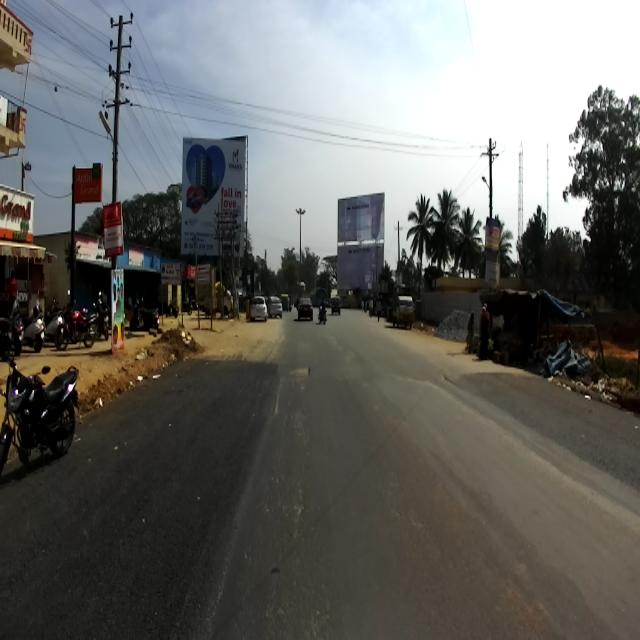electric pole ahead at: (98, 9, 142, 366)
motorcycle ahead at: (0, 352, 84, 485)
